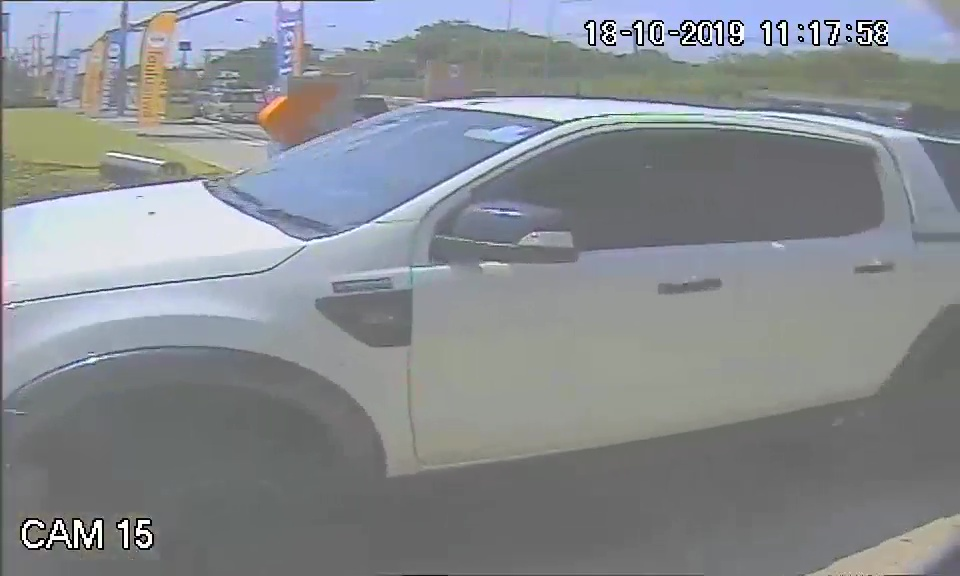pickup: (1, 97, 960, 493)
